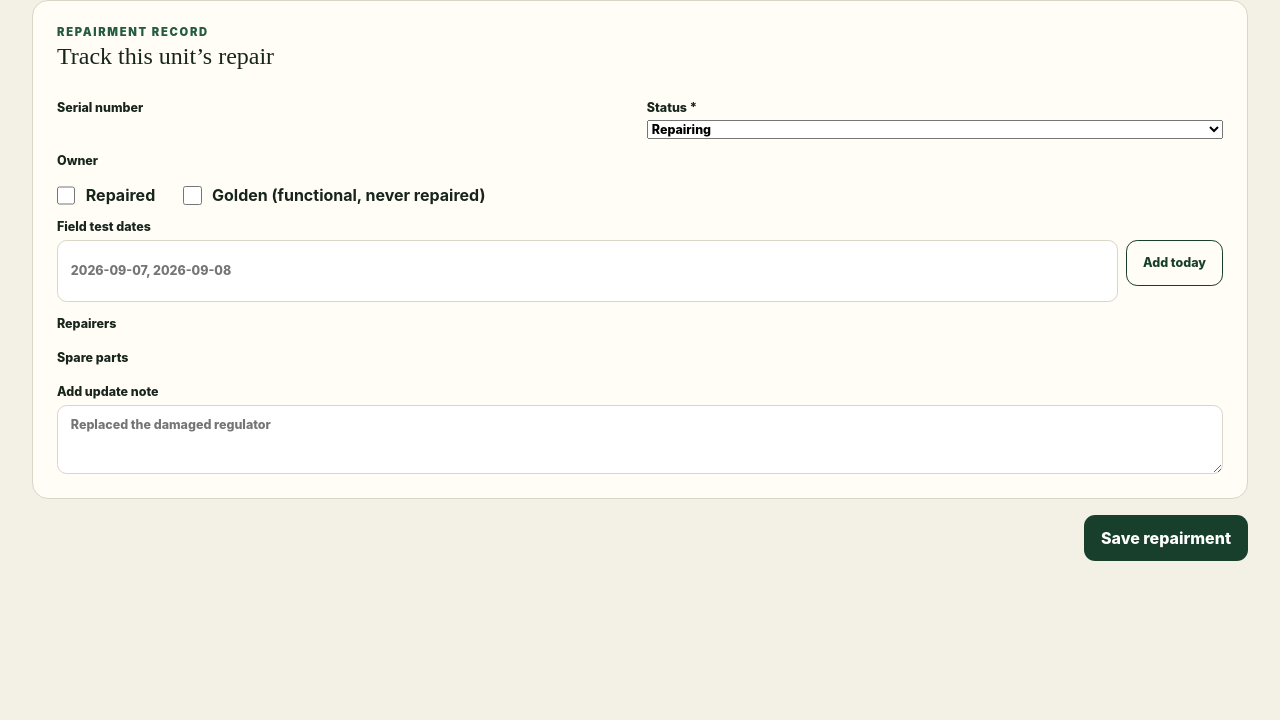
Test: RepairmentForm › rejects a repairment that is both repaired and golden
Click the checkbox named "repaired".
click(66, 195)  # box [57,186,75,205]
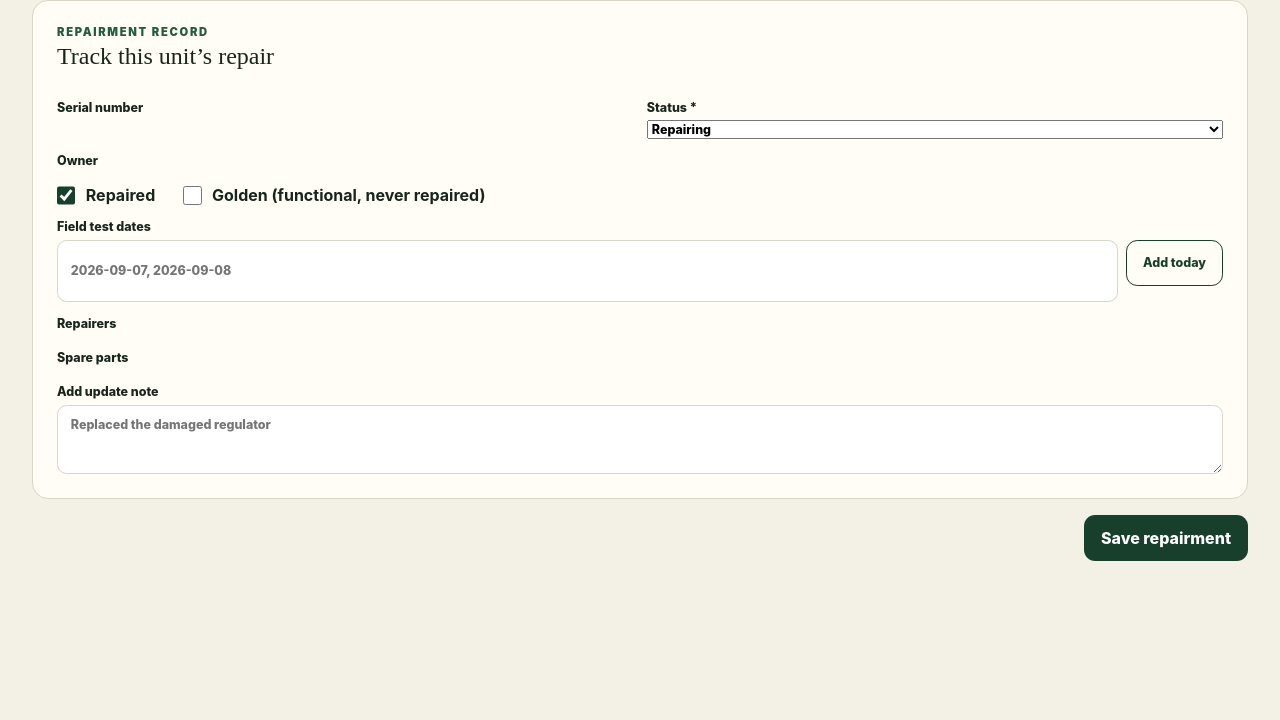
Click the checkbox named "golden".
click(192, 195)  # box [183,186,202,205]
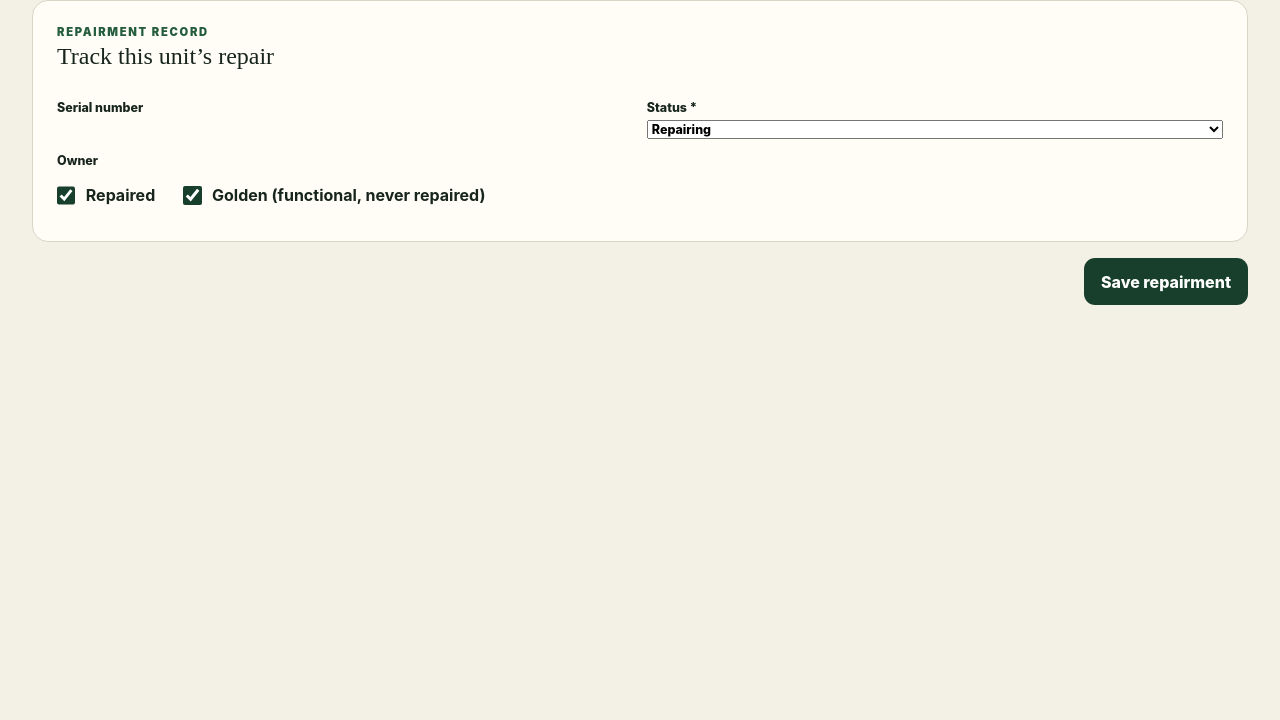
Submit the form, box [0,0,1279,337]
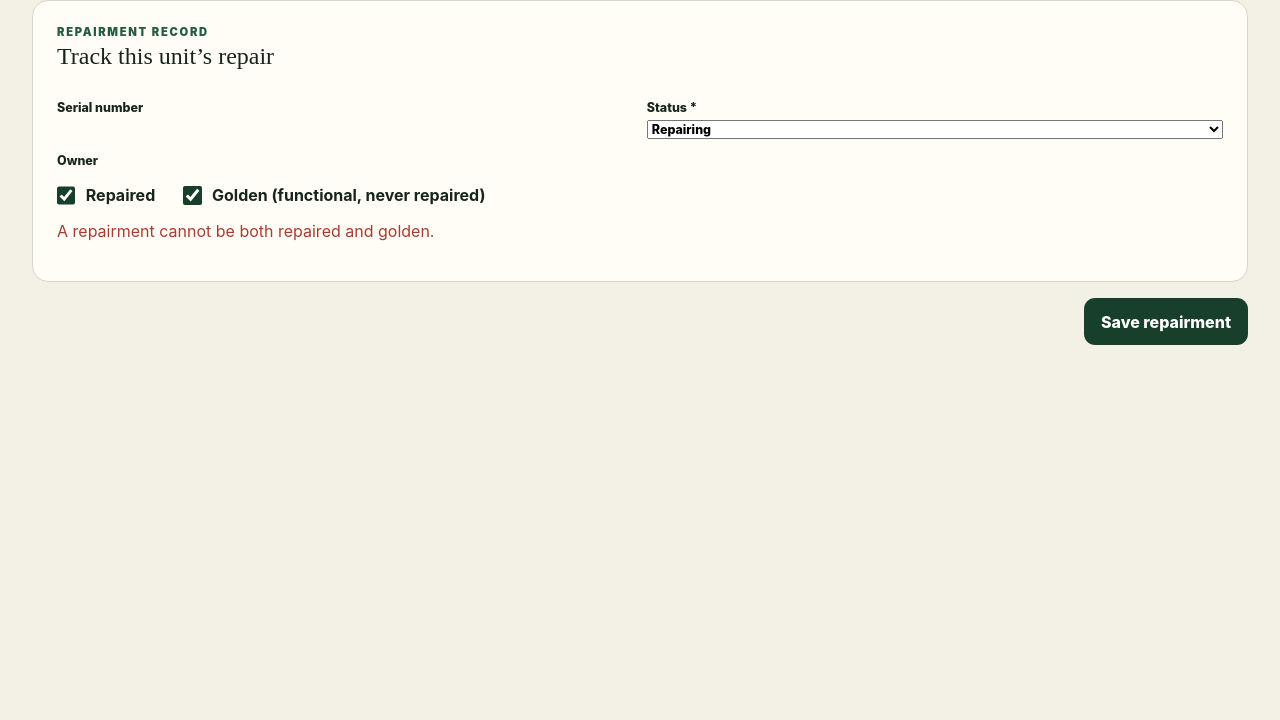
Expected: the message "A repairment cannot be both repaired and golden." is shown, [57,221,434,241]
